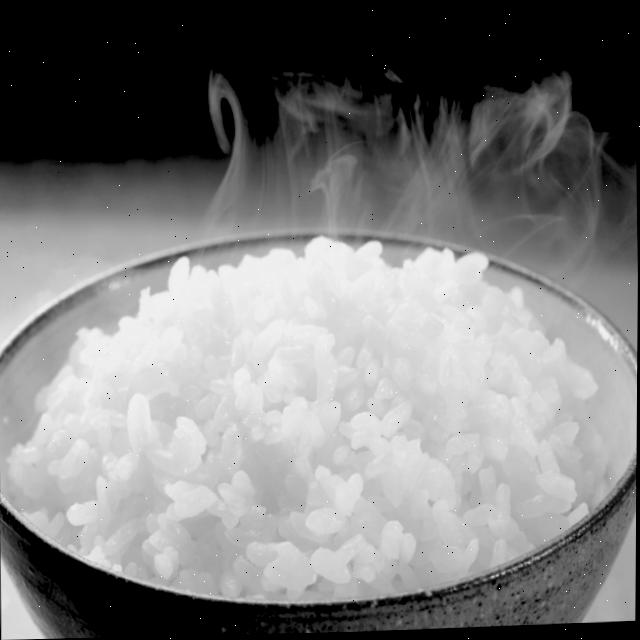米饭主食: (0, 152, 639, 640)
